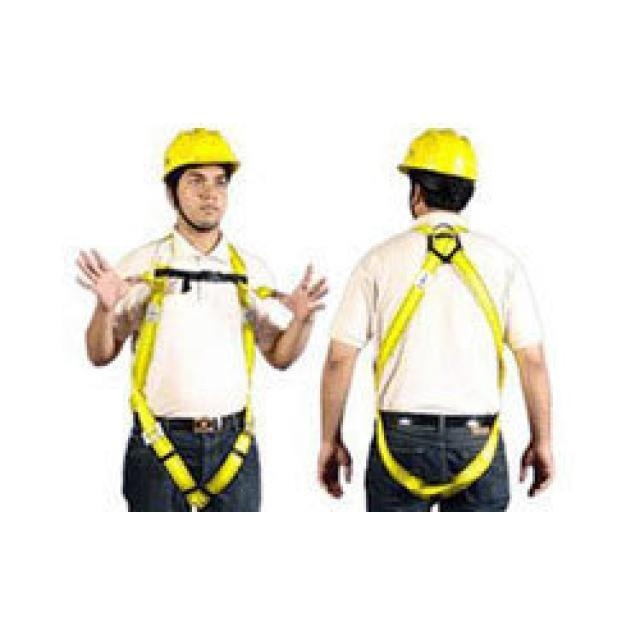Arnes_seguridad: (109, 227, 281, 500), (373, 218, 511, 490)
